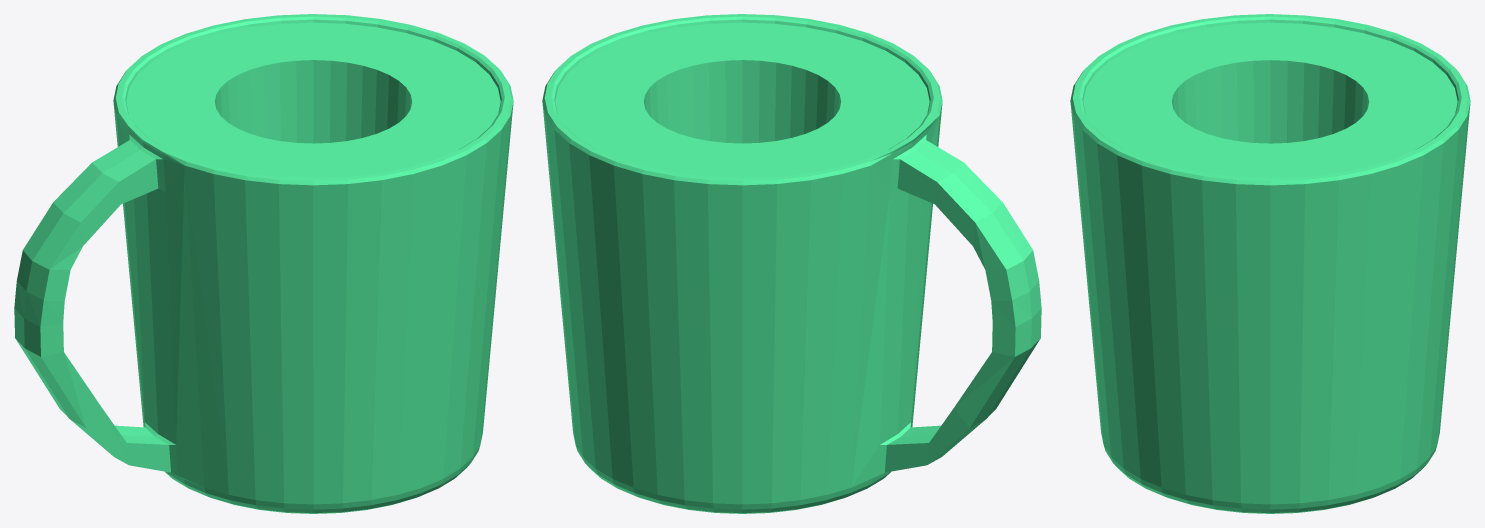
The model's file is cup.fbx.
The picture shows the model from 3 angles, left to right: view 1: azimuth 30°, elevation 25°; view 2: azimuth 150°, elevation 25°; view 3: azimuth 270°, elevation 25°; orthographic projection.
Parts seen in each view (by area): view 1: 0cup; view 2: 0cup; view 3: 0cup.
Boxes of the visible parts, x1,y1,x2,y2 form: 0cup: (14,14,513,513); 0cup: (542,14,1041,513); 0cup: (1070,14,1470,513).
Size of the model in its own units: 200 by 145 by 150.
